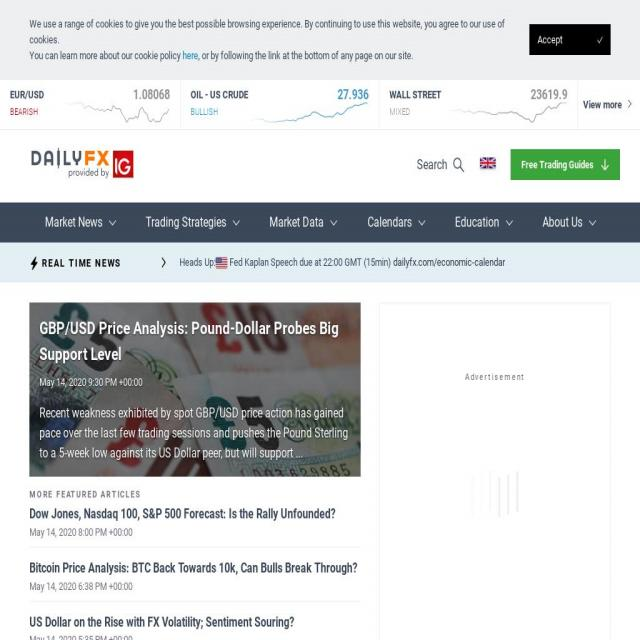download: (508, 143, 626, 185)
language: (475, 148, 496, 177)
navigation-links: (34, 203, 610, 242)
search: (418, 148, 472, 177)
